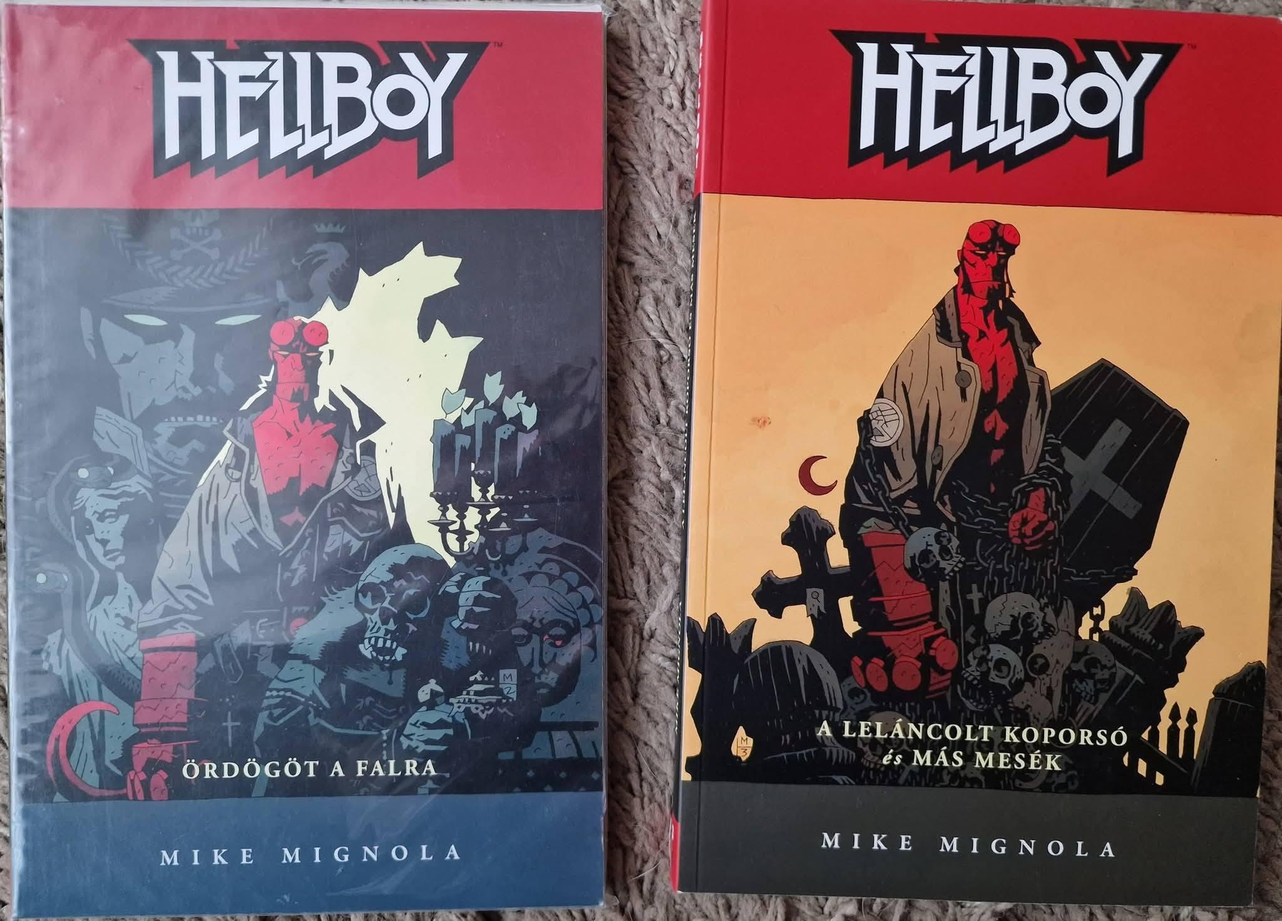comic: (672, 0, 1282, 910), (2, 1, 608, 917)
